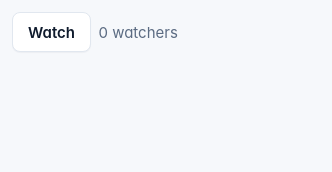
Test case: IssueWatchers › shows a refusal
Click the button "Watch". click: (52, 32)
box: [12,12,91,52]
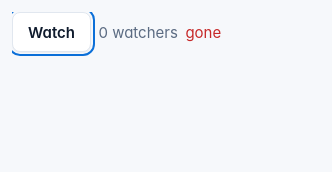
Now the message reads "gone", box [185,22,221,42]
